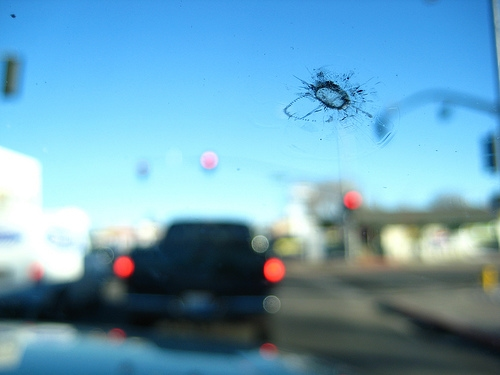bullseye: (272, 51, 389, 148)
